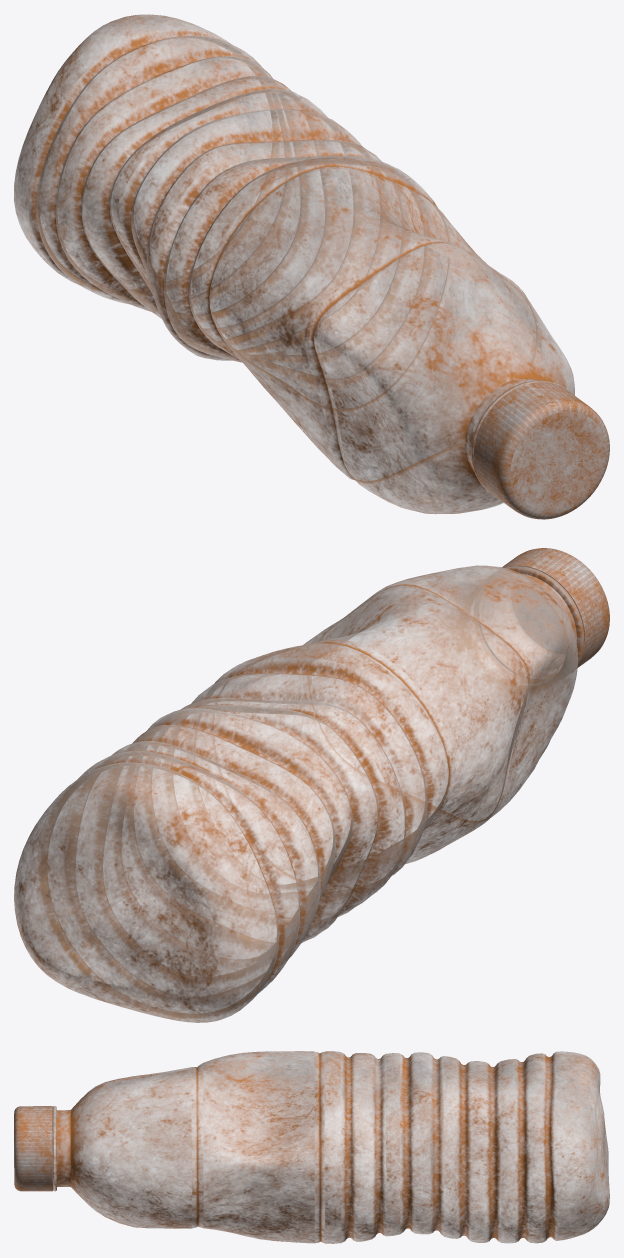
Rendered from plastic_water_bottle.glb.
3 renders of one model, top to bottom at view 1: azimuth 30°, elevation 25°; view 2: azimuth 150°, elevation 25°; view 3: azimuth 270°, elevation 25°, orthographic. The views are drawn at different scales.
Visible parts, largest first — view 1: Beat_Water_Bottle, Bottle_Cap; view 2: Beat_Water_Bottle, Bottle_Cap; view 3: Beat_Water_Bottle, Bottle_Cap.
Boxes of the visible parts, box(x1,y1,x2,y2) form: Beat_Water_Bottle: box(14, 14, 574, 514); Bottle_Cap: box(473, 382, 609, 519); Beat_Water_Bottle: box(14, 565, 584, 1022); Bottle_Cap: box(490, 548, 609, 667); Beat_Water_Bottle: box(52, 1051, 609, 1243); Bottle_Cap: box(14, 1106, 52, 1191).
Bounding box in the file's own units: 6.74 × 6.73 × 20.85.
2 materials, 2 textured.
